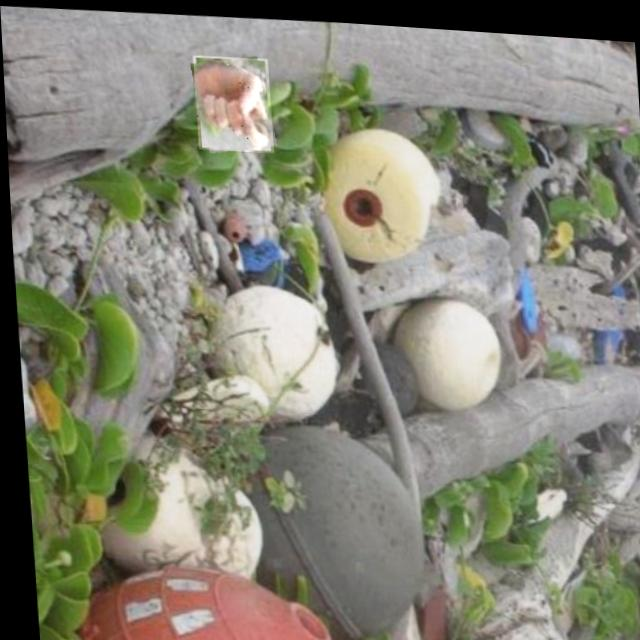Person in Rubble: (191, 51, 272, 150)
